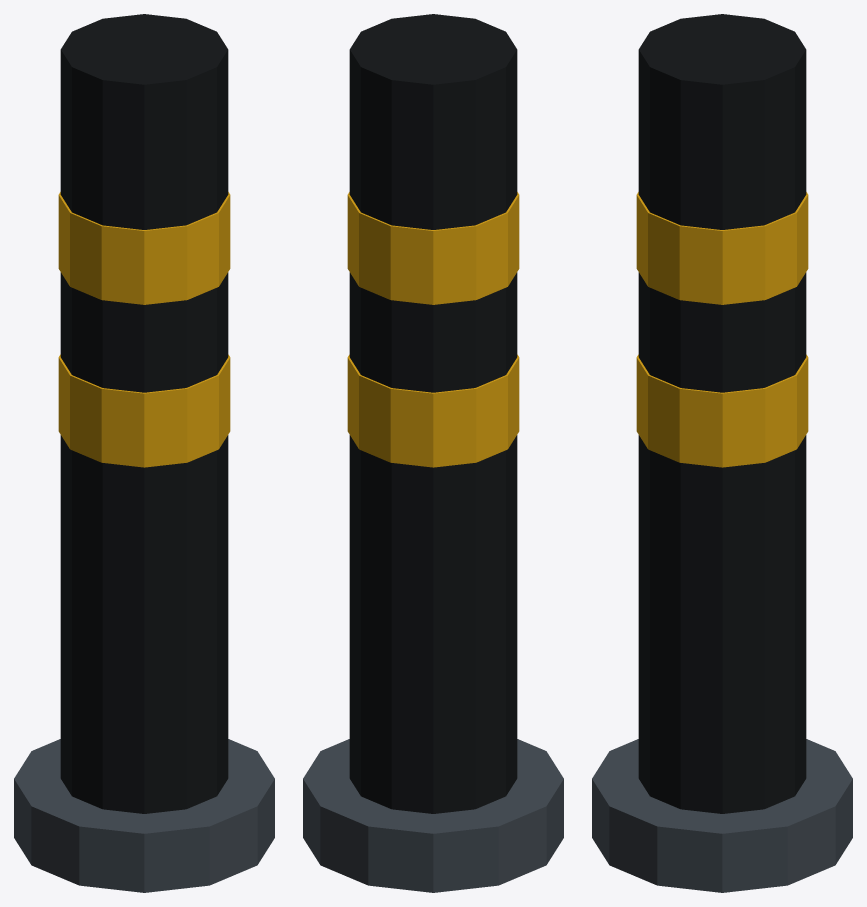
File: BollardBlack.fbx
3 views of the same model, side by side, from view 1: azimuth 30°, elevation 25°; view 2: azimuth 150°, elevation 25°; view 3: azimuth 270°, elevation 25° (orthographic).
Visible parts, largest first — view 1: BollardBlack; view 2: BollardBlack; view 3: BollardBlack.
Part boxes in pixels (x1,y1,x2,y2): BollardBlack: (14,14,274,892); BollardBlack: (303,14,563,892); BollardBlack: (592,14,852,892).
Size of the model in its own units: 24 by 80 by 24.
Materials: 1 (1 with a texture image).
